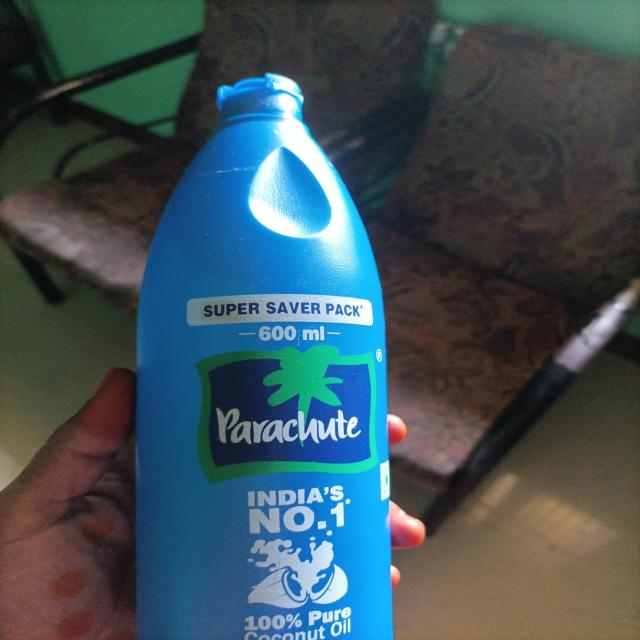parachute_oil: (116, 60, 410, 640)
